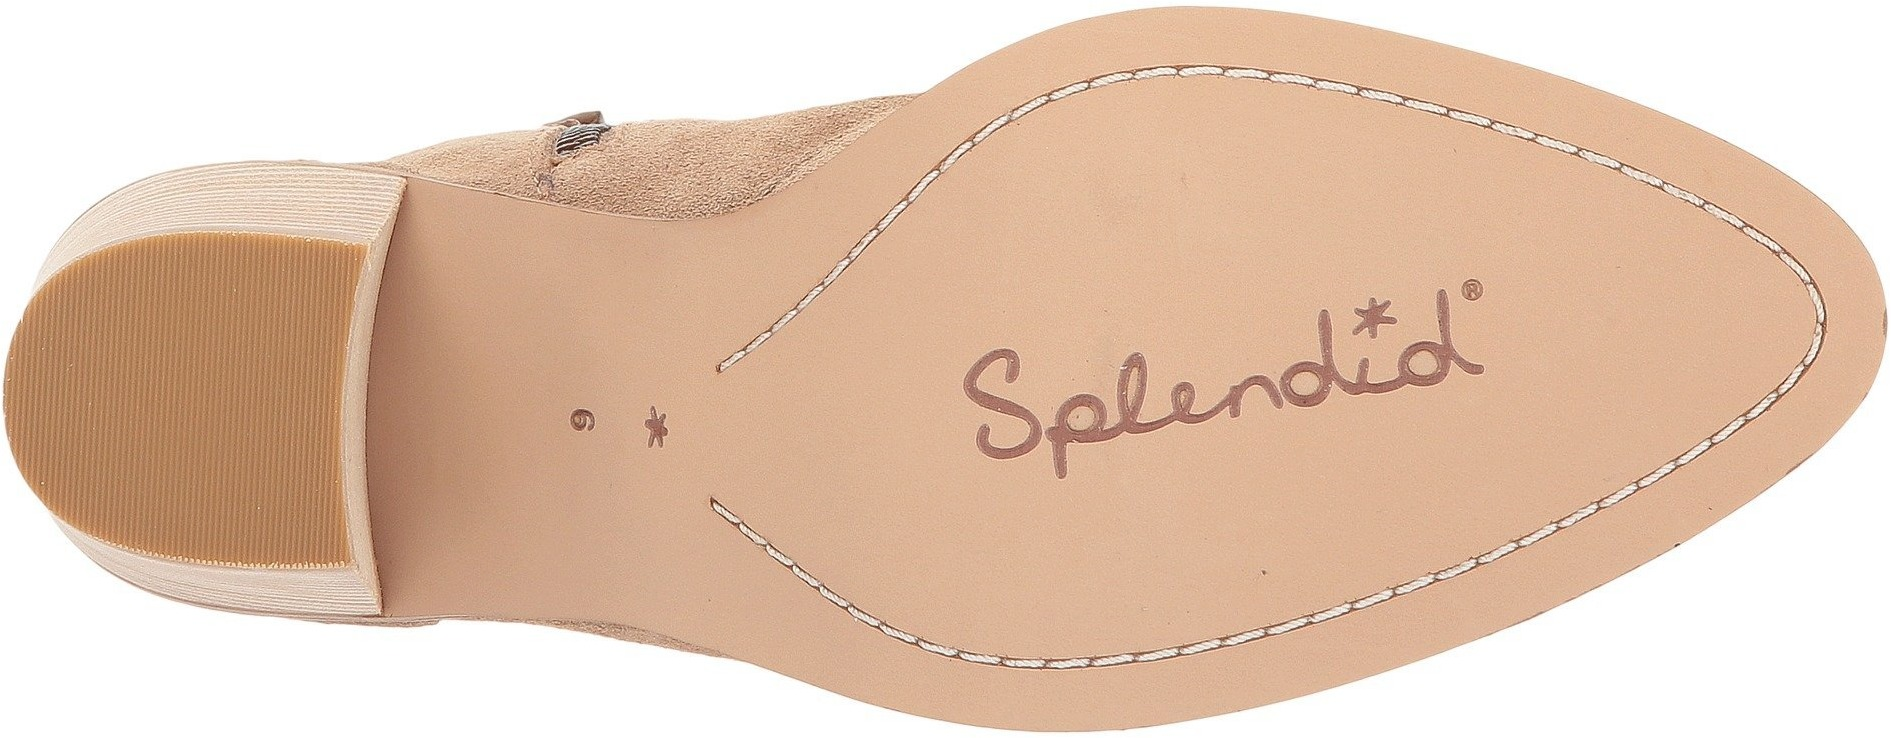other: (62, 271, 316, 523), (1030, 119, 1265, 340), (1510, 232, 1741, 437), (973, 519, 1157, 649)
ribbon: (1362, 52, 1477, 160)
text: (1173, 280, 1499, 497), (942, 336, 1159, 503)
